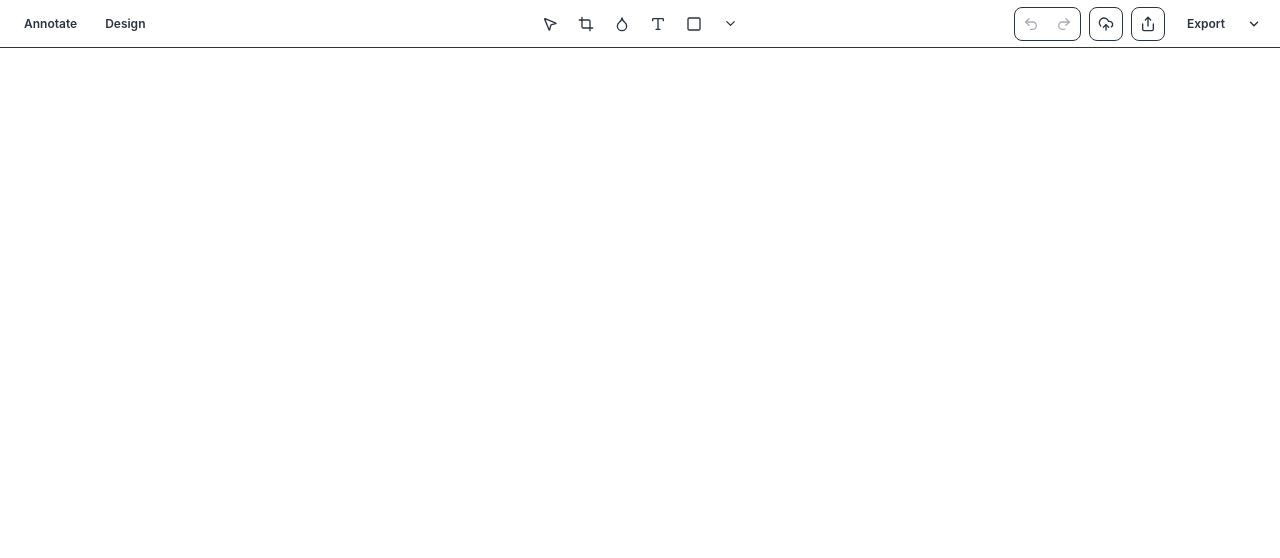
Test: EditorTopBar wiring › picks a sub-tool from the tool menu and updates the group primary
Click the radio button with aria-label "Design mode" at (125,24), box top-left (93, 8), bottom-right (157, 40)
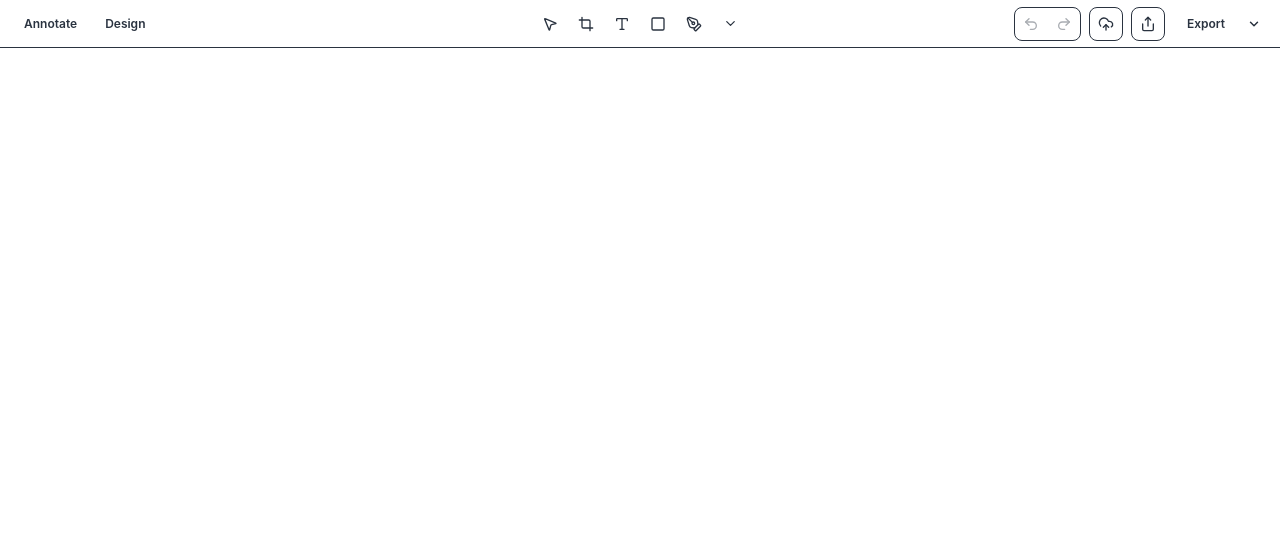
Check: the button titled "Rectangle" is shown, box top-left (642, 8), bottom-right (674, 40)
Click the button named "All tools" at (730,24), box top-left (714, 8), bottom-right (746, 40)
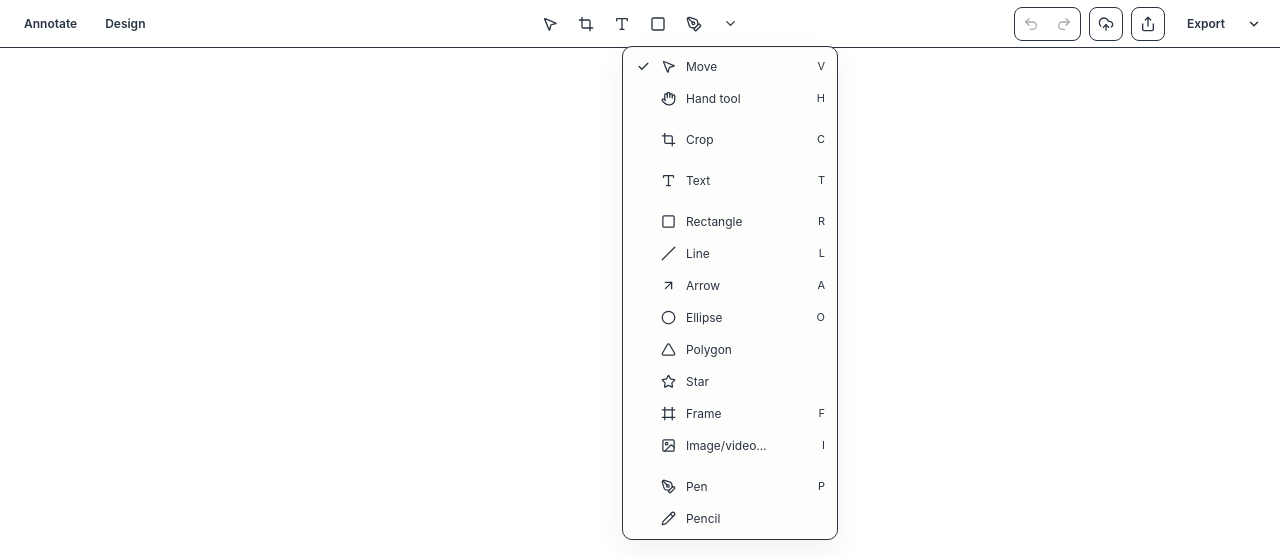
Click the menu item "Polygon" at (730,350), box top-left (627, 334), bottom-right (833, 366)
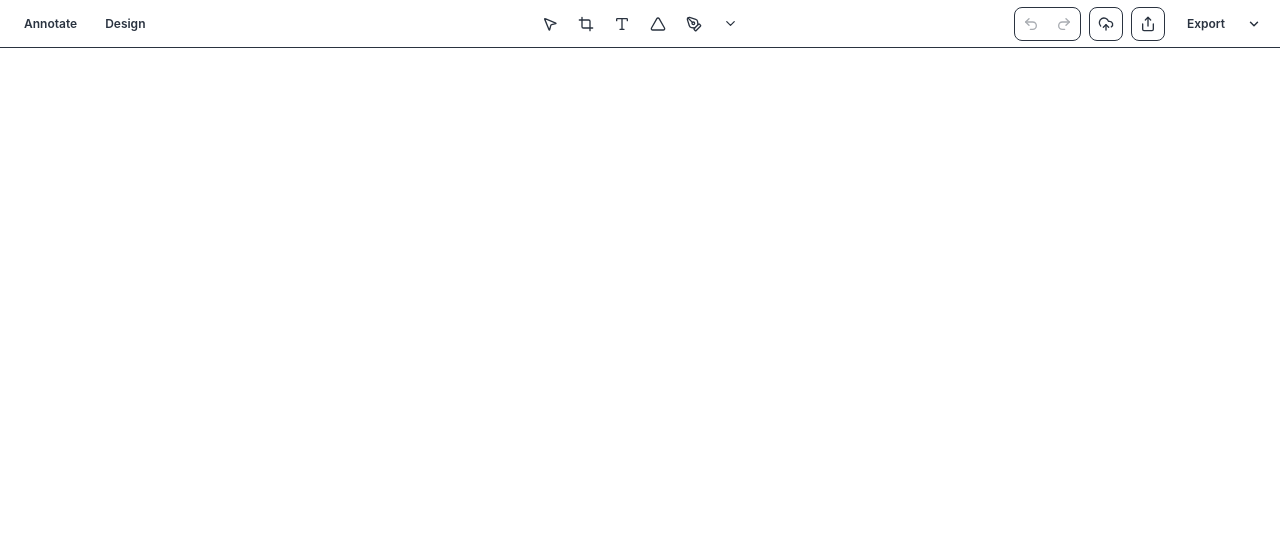
Check: the button titled "Polygon" is shown, box top-left (642, 8), bottom-right (674, 40)
